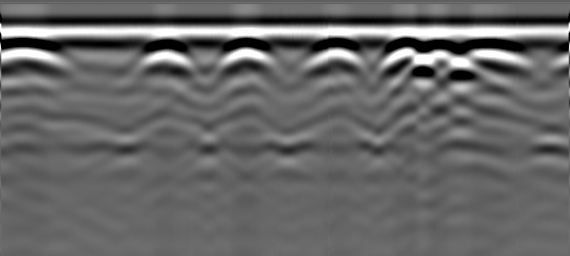steel: (1, 37, 71, 74), (465, 37, 529, 73), (135, 39, 192, 78), (304, 38, 363, 74), (220, 37, 275, 74), (419, 40, 469, 72), (380, 37, 424, 71)
